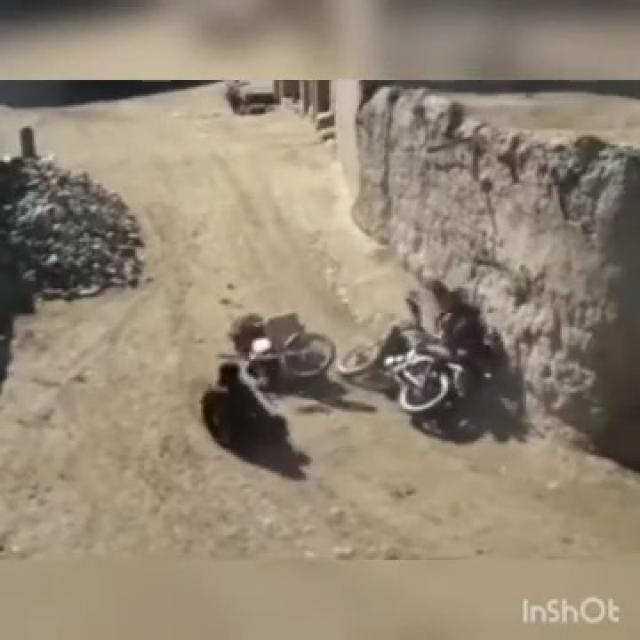accident: (340, 316, 463, 418), (214, 308, 349, 379)
